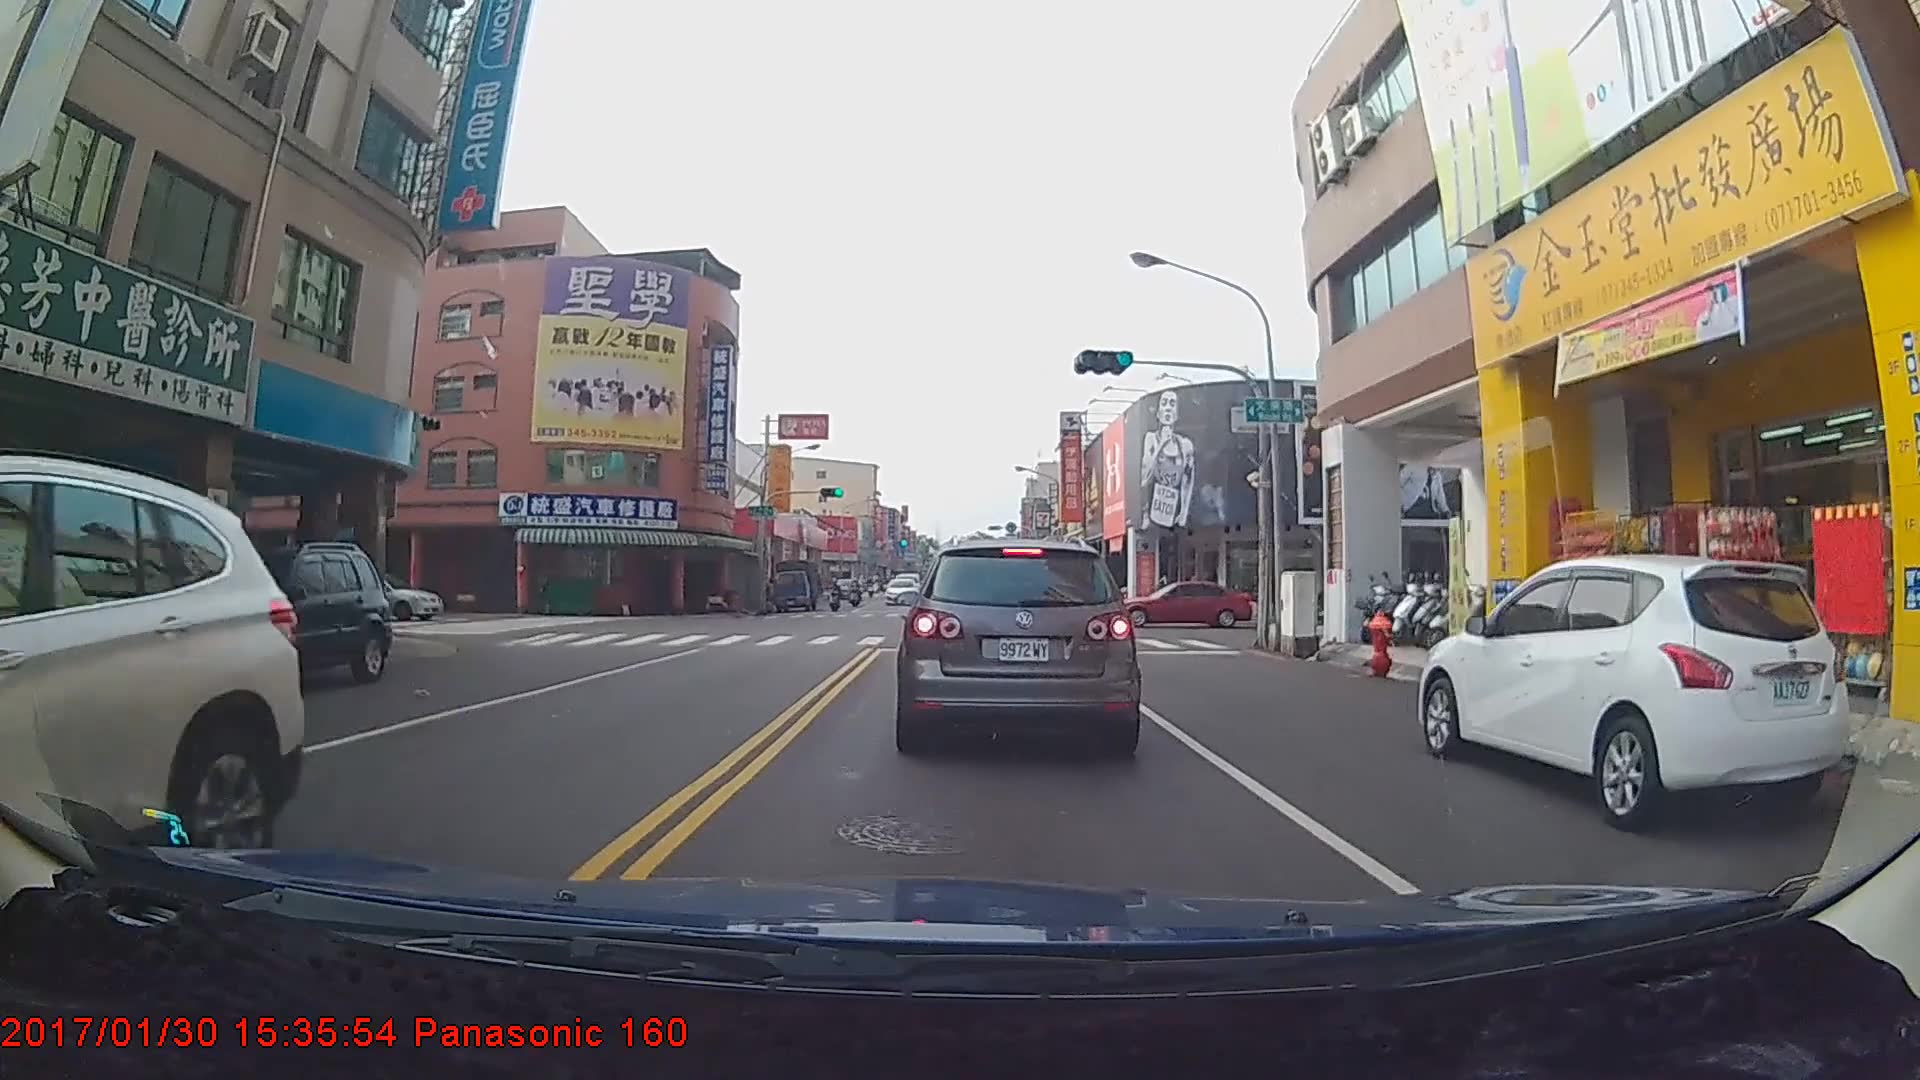rider: (822, 581, 845, 616), (846, 577, 867, 607)
vehicle: (0, 471, 310, 1018), (1425, 550, 1852, 833), (901, 533, 1134, 754), (168, 541, 392, 701), (1108, 579, 1250, 631), (307, 570, 443, 621), (770, 559, 822, 613), (884, 579, 920, 609)
